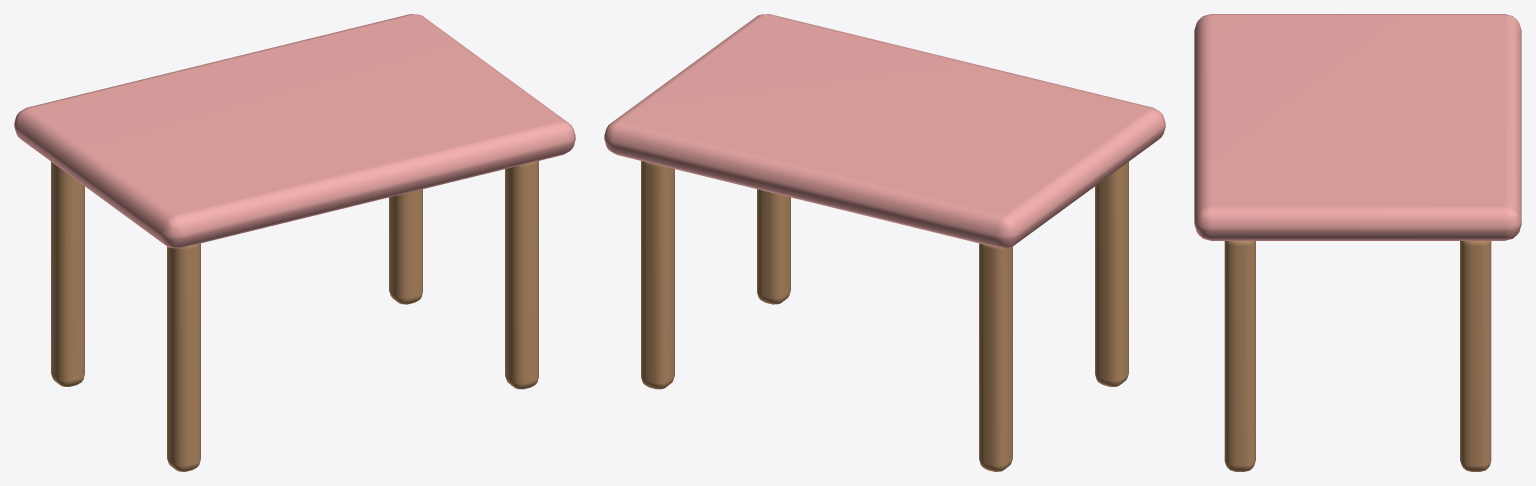
File: tablePink.glb
3 views of the same model, side by side, from view 1: azimuth 30°, elevation 25°; view 2: azimuth 150°, elevation 25°; view 3: azimuth 270°, elevation 25° (orthographic).
Parts seen in each view (by area): view 1: Rounded tabletop, Leg, Leg.002, Leg.001, Leg.003; view 2: Rounded tabletop, Leg.001, Leg.003, Leg, Leg.002; view 3: Rounded tabletop, Leg.002, Leg.003.
Boxes of the visible parts, x1,y1,x2,y2 form: Rounded tabletop: (14,14,575,248); Leg: (167,243,200,471); Leg.002: (505,161,538,389); Leg.001: (51,162,84,386); Leg.003: (389,189,422,304); Rounded tabletop: (604,14,1165,248); Leg.001: (979,243,1012,471); Leg.003: (641,161,674,389); Leg: (1095,162,1128,386); Leg.002: (757,189,790,304); Rounded tabletop: (1194,14,1521,240); Leg.002: (1224,241,1255,471); Leg.003: (1460,241,1491,471).
Bounding box in the file's own units: 1.7 × 1.06 × 1.15.
